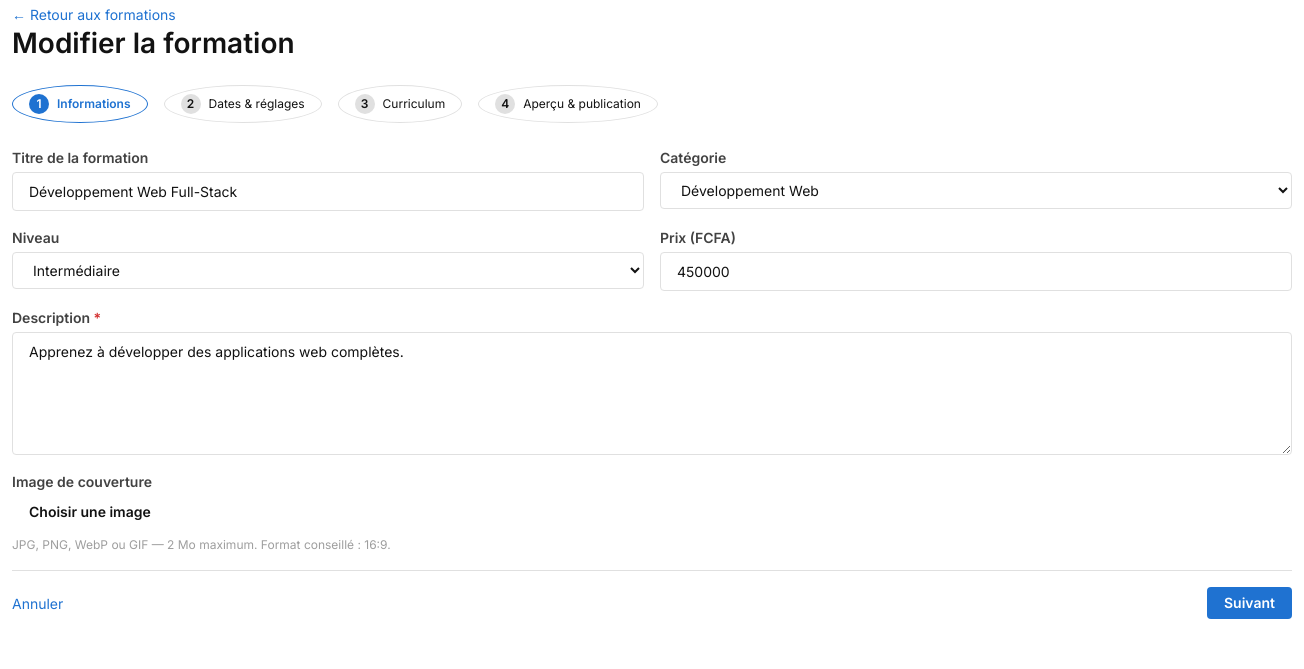
Scenario: FormationFormComponent › should block module creation when the title is empty
Click the button "Suivant" at (1250, 603), box [1207, 587, 1292, 619]
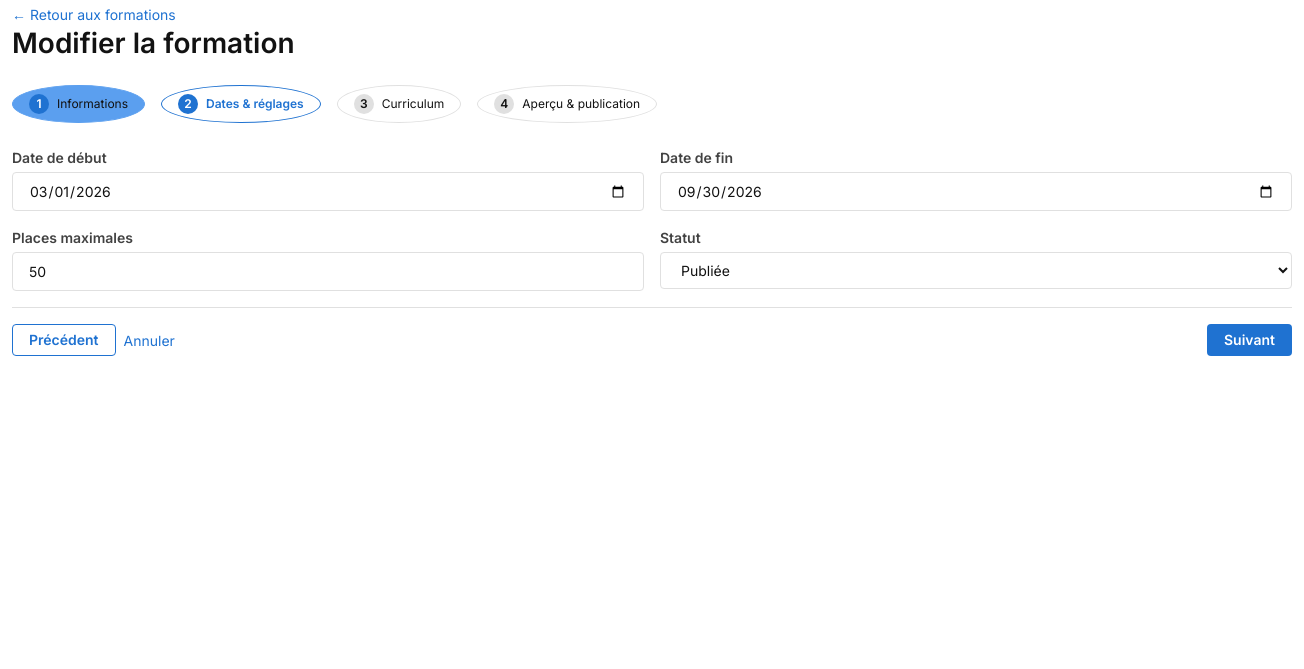
Click the button "Suivant" at (1250, 340), box [1207, 324, 1292, 356]
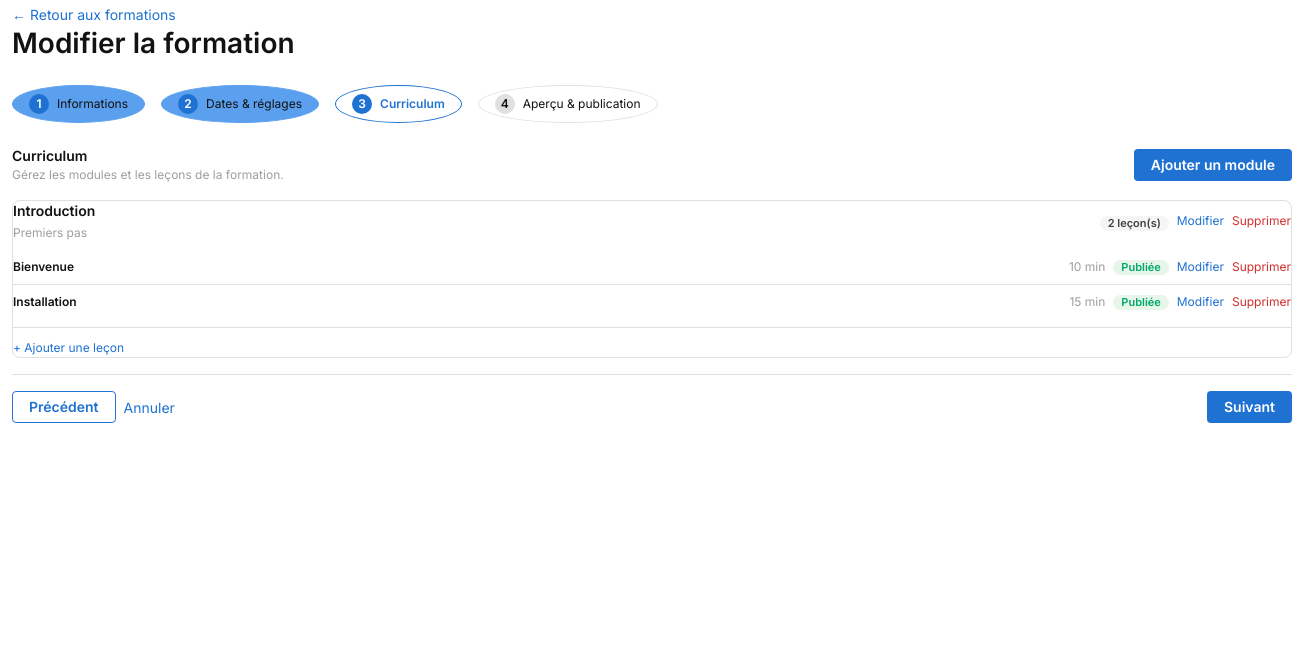
Click the button "Ajouter un module" at (1213, 166), box [1134, 150, 1292, 182]
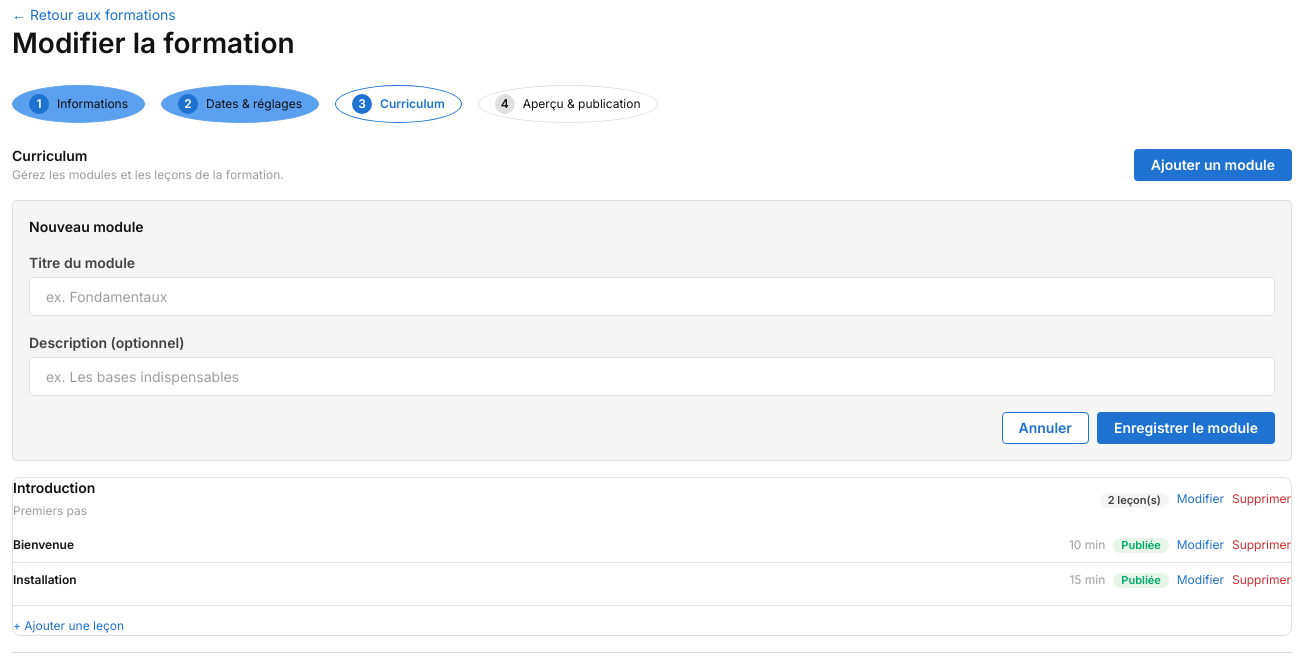
Click the button "Enregistrer le module" at (1186, 428), box [1097, 412, 1275, 444]
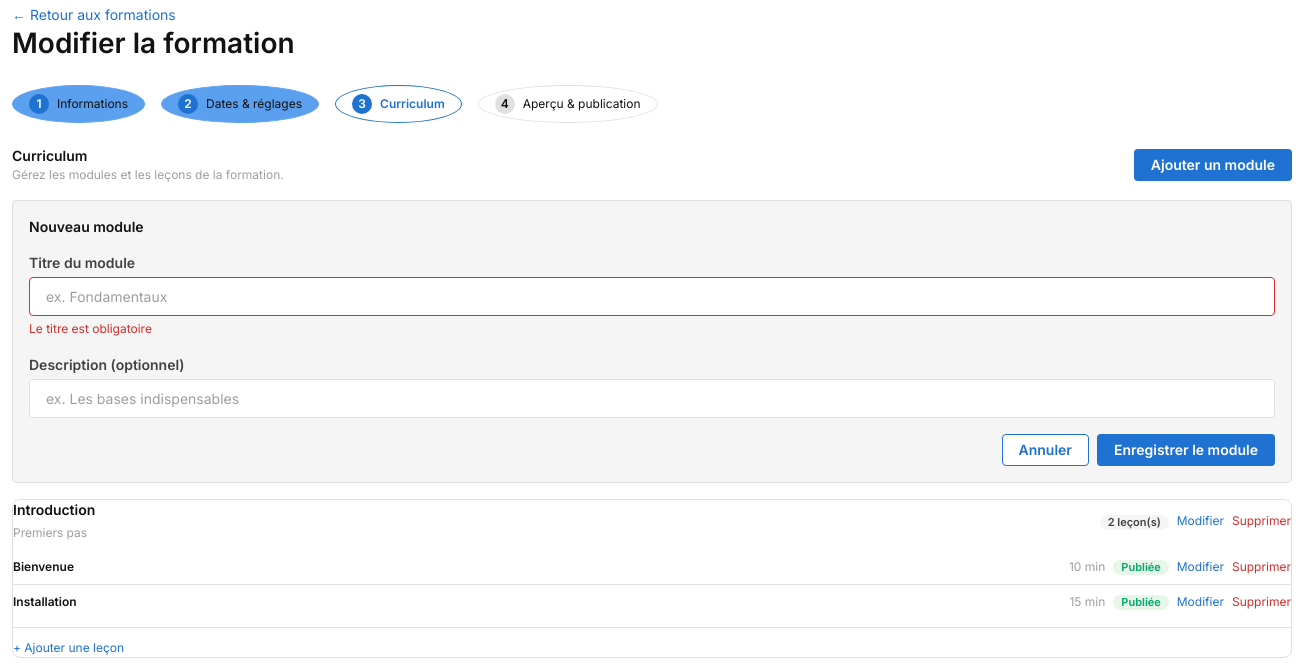
Check: the text "Le titre est obligatoire" is shown, box [29, 321, 152, 336]
